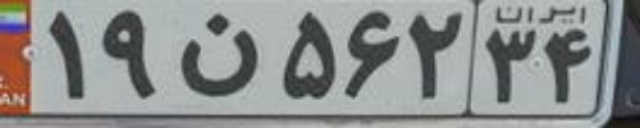1: (45, 11, 86, 99)
2: (406, 12, 462, 98)
3: (482, 29, 541, 103)
4: (544, 30, 591, 104)
5: (277, 12, 335, 98)
6: (342, 9, 399, 98)
9: (103, 10, 152, 98)
non: (170, 13, 259, 96)
